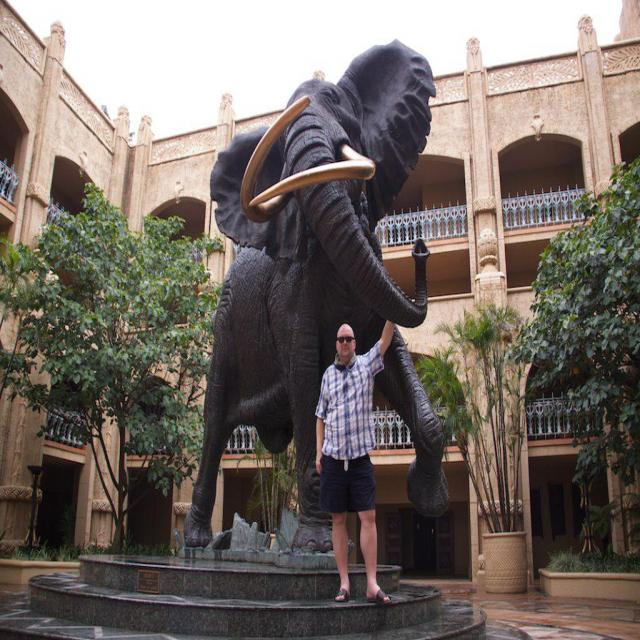elephant: (195, 109, 437, 556)
